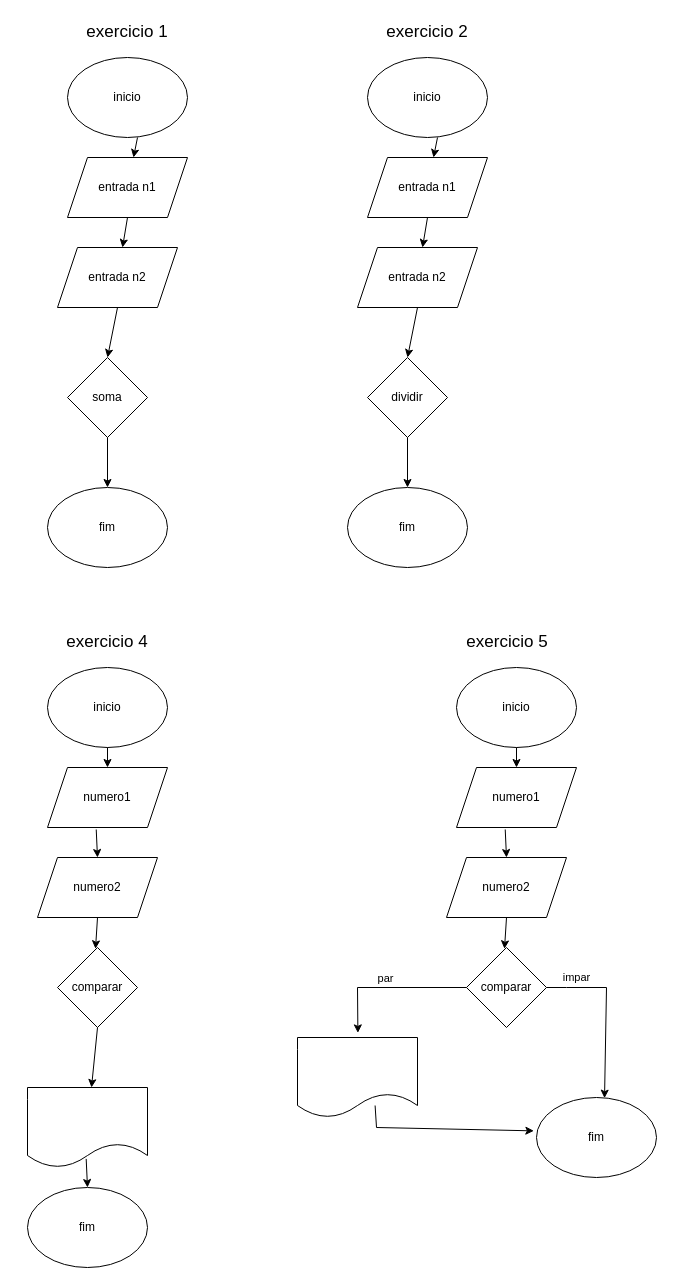
Image size: 674x1285. Some labels were removed from this diagram. The shapes that lost their labels are listed below. From the top down, each one's centre as x and y in pixels, then its label:
At (x=357, y=1077): "exibe".
At (x=87, y=1127): "exibe maior".
